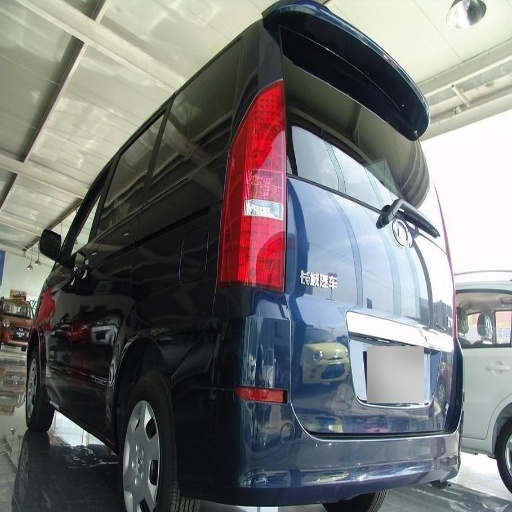back_bumper: (194, 292, 457, 506)
back_glass: (316, 39, 399, 122)
back_left_light: (229, 130, 267, 206), (219, 234, 259, 283)
back_right_door: (285, 24, 339, 193)
tailgate: (331, 310, 427, 410)
trunk: (258, 314, 510, 441), (245, 173, 287, 238)
